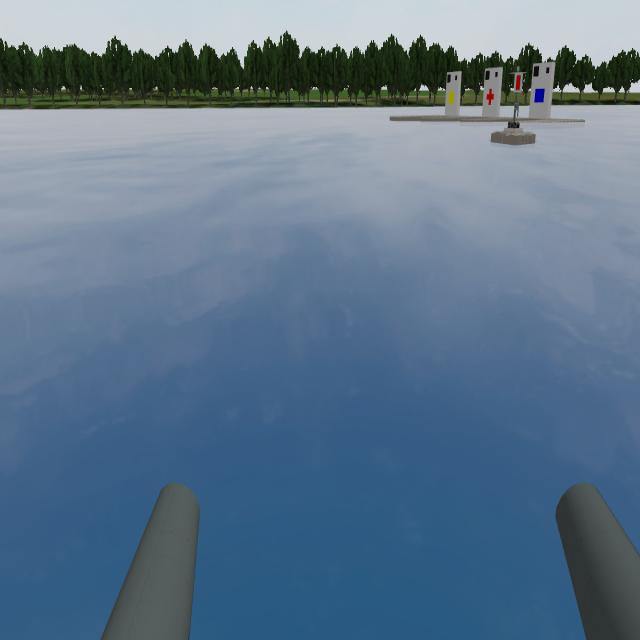red_pole: (510, 60, 527, 100)
